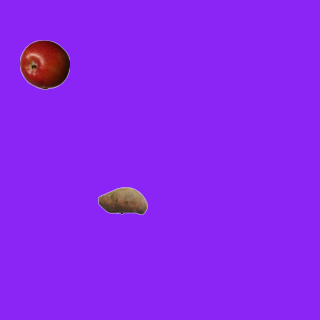Apple Braeburn: (19, 39, 69, 89)
Potato Sweet: (97, 175, 147, 225)
